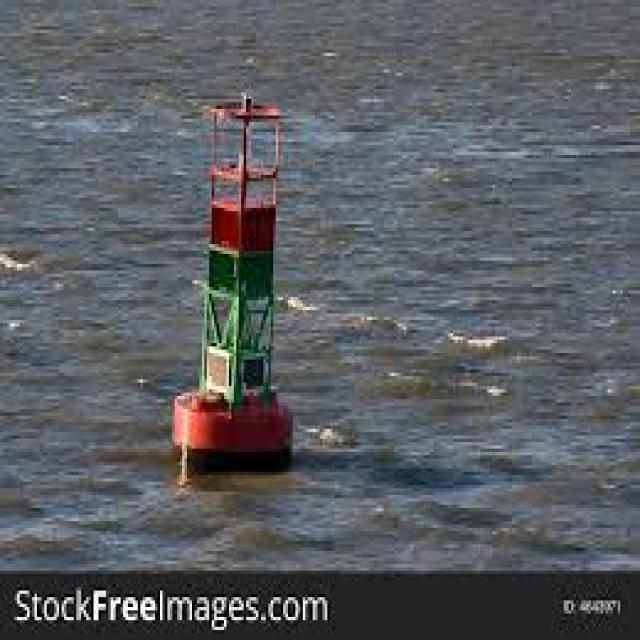marque: (170, 74, 309, 484)
